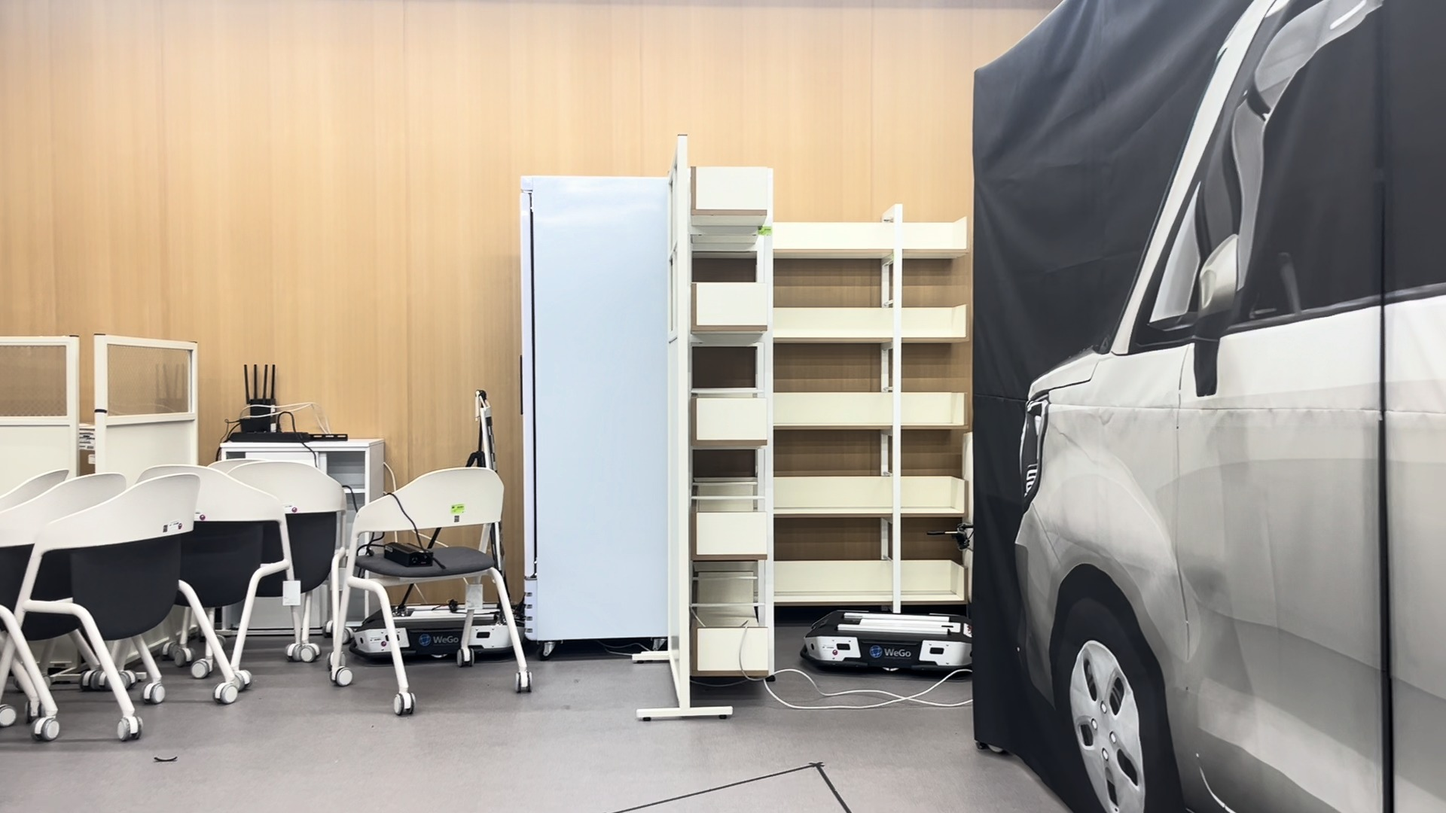side_mirror: (1194, 235, 1238, 396)
